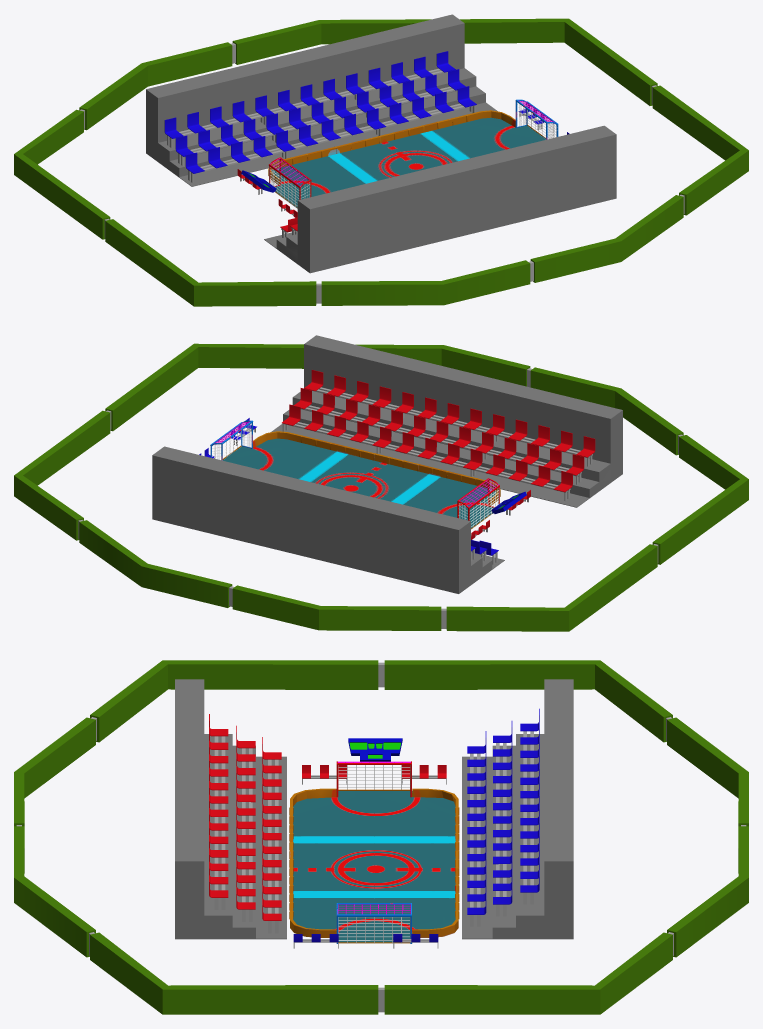
The model's file is 4f184564-0a41-40cd-bf66-6abf3a4a631d.fbx.
The picture shows the model from 3 angles, top to bottom: view 1: azimuth 30°, elevation 25°; view 2: azimuth 150°, elevation 25°; view 3: azimuth 270°, elevation 25°; orthographic projection. The views are drawn at different scales.
Parts seen in each view (by area): view 1: reklam panoları, mavi oturaklar, kırmızı oturaklar, saha.002, saha.001, saha.006; view 2: reklam panoları, kırmızı oturaklar, mavi oturaklar, saha.002, saha.001, saha.006; view 3: reklam panoları, mavi oturaklar, kırmızı oturaklar, saha.002, saha.006, saha.001, skor tablosu, kırmızı oturaklar.001, kırmızı oturaklar.002.
Boxes of the visible parts, box(x1,y1,x2,y2) form: reklam panoları: box(14, 18, 748, 306); mavi oturaklar: box(146, 14, 497, 186); kırmızı oturaklar: box(264, 125, 616, 273); saha.002: box(270, 110, 545, 207); saha.001: box(268, 157, 311, 208); saha.006: box(515, 99, 558, 139); reklam panoları: box(14, 343, 748, 631); kırmızı oturaklar: box(271, 335, 622, 507); mavi oturaklar: box(152, 446, 504, 593); saha.002: box(223, 431, 497, 528); saha.001: box(457, 478, 499, 529); saha.006: box(210, 420, 253, 460); reklam panoları: box(14, 660, 748, 1014); mavi oturaklar: box(462, 679, 573, 939); kırmızı oturaklar: box(175, 679, 286, 939); saha.002: box(289, 789, 459, 942); saha.006: box(336, 903, 411, 943); saha.001: box(336, 761, 411, 797); skor tablosu: box(348, 738, 402, 761); kırmızı oturaklar.001: box(302, 765, 446, 784); kırmızı oturaklar.002: box(293, 934, 438, 948).
Size of what is drawn, in the model's own units: 4313 by 476 by 4068.
